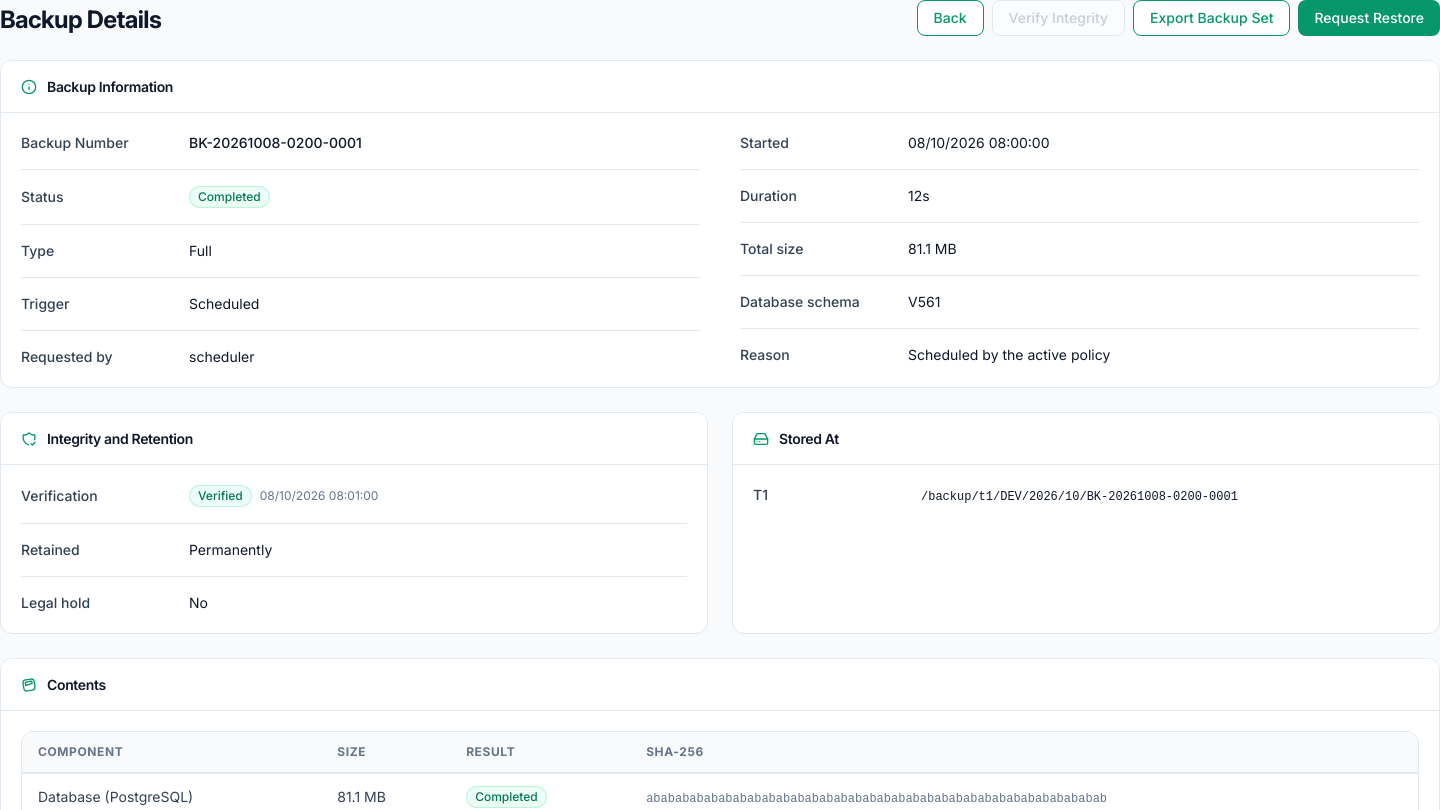
Test: Backup Details › asks a second person to approve: requesting an export sends the medium and the reason
This screenshot has width=1440, height=810.
Click the button "Export Backup Set" at (1212, 18), box left=1133, top=0, right=1290, bottom=36
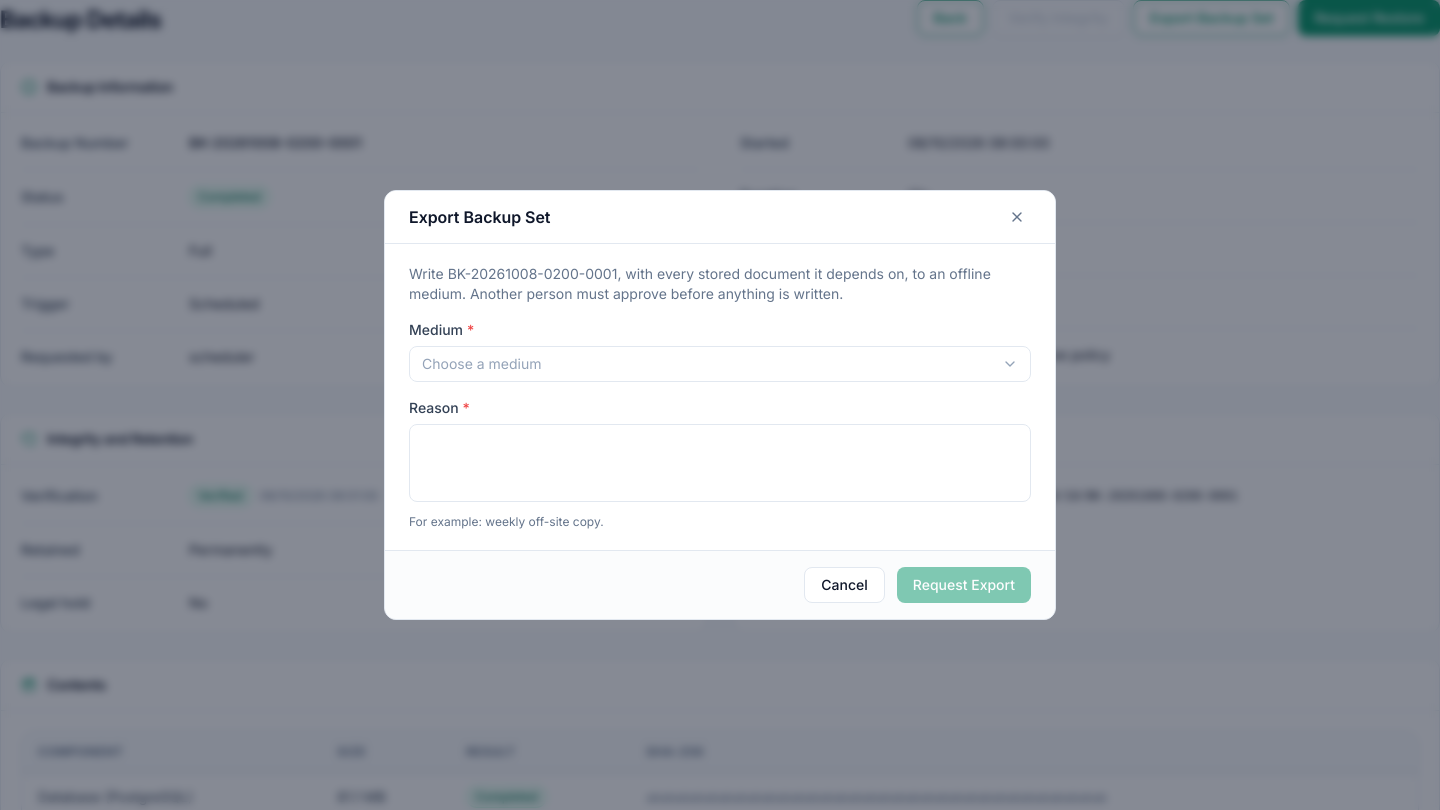
Type "Weekly copy" into the text box at (720, 463), box left=409, top=424, right=1031, bottom=502
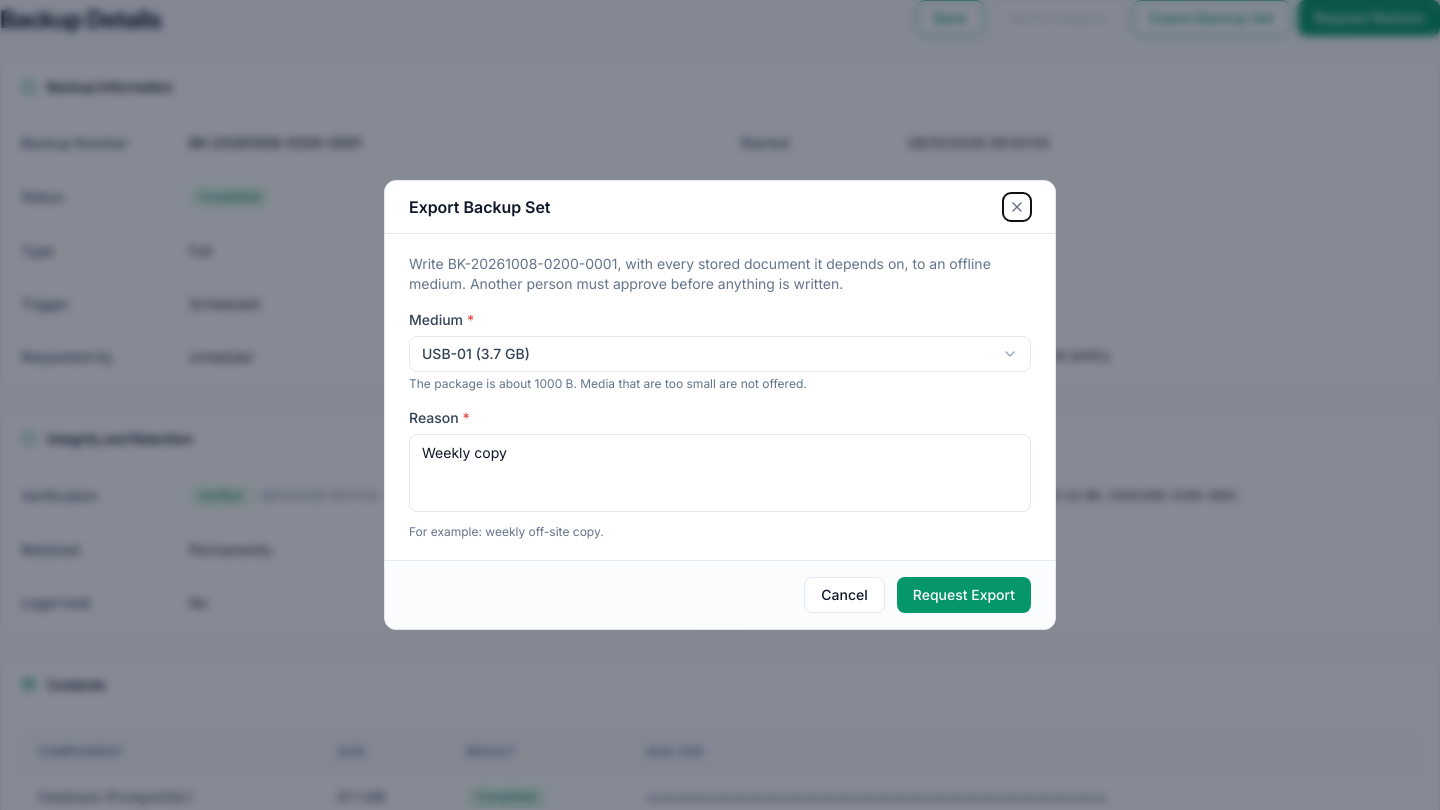
Check: the button "Request Export" is enabled
Click the button "Request Export" at (964, 595), box left=897, top=577, right=1031, bottom=613
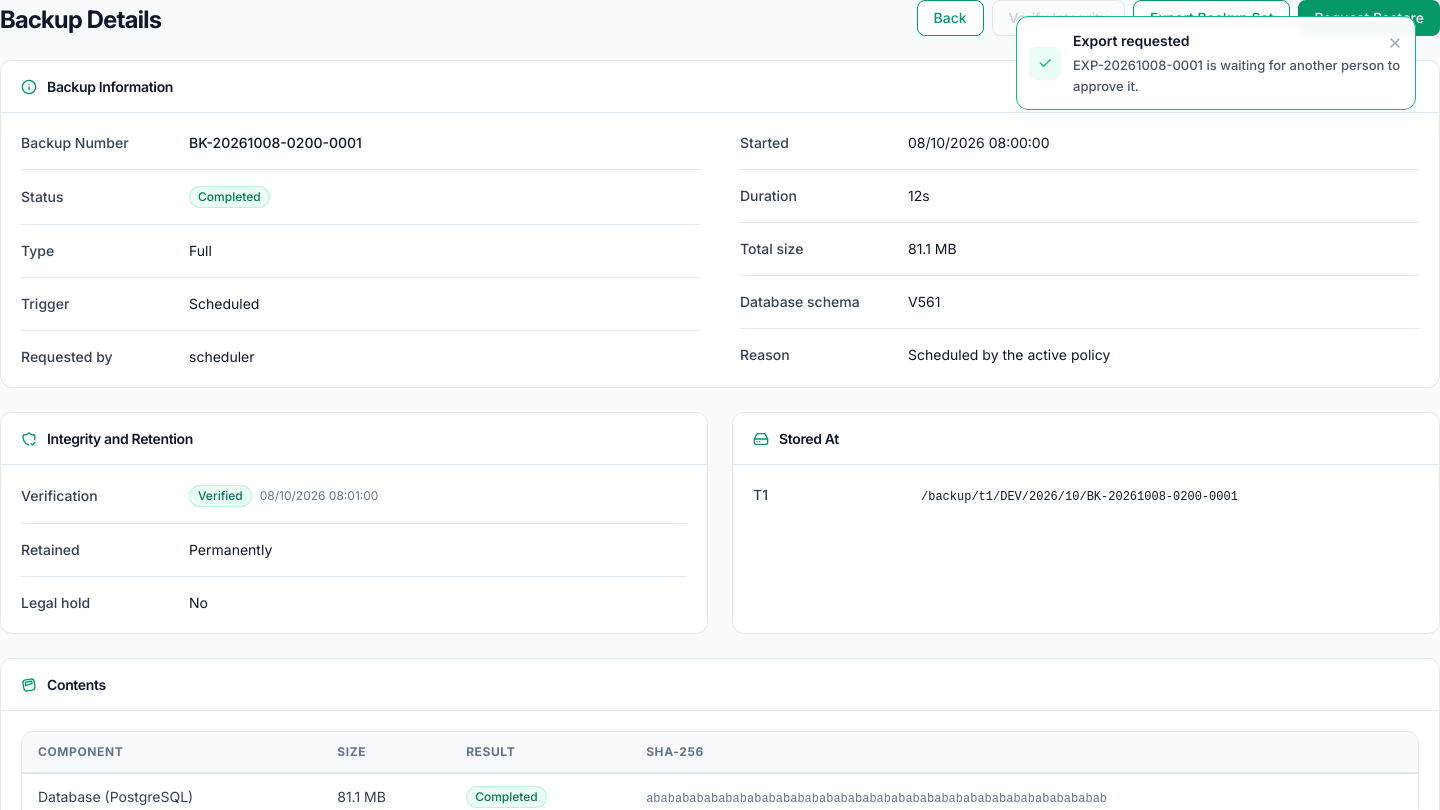
Check: the text "is waiting for another person to approve it" is shown, box left=1073, top=57, right=1400, bottom=94
